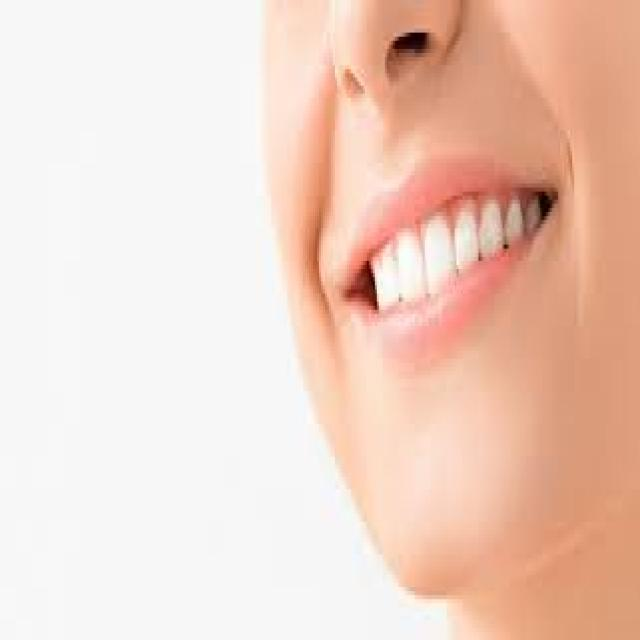tooth: (420, 228, 454, 298), (454, 216, 476, 289), (396, 240, 421, 302), (373, 252, 395, 306), (480, 204, 502, 253), (508, 204, 526, 240), (528, 200, 542, 228)
